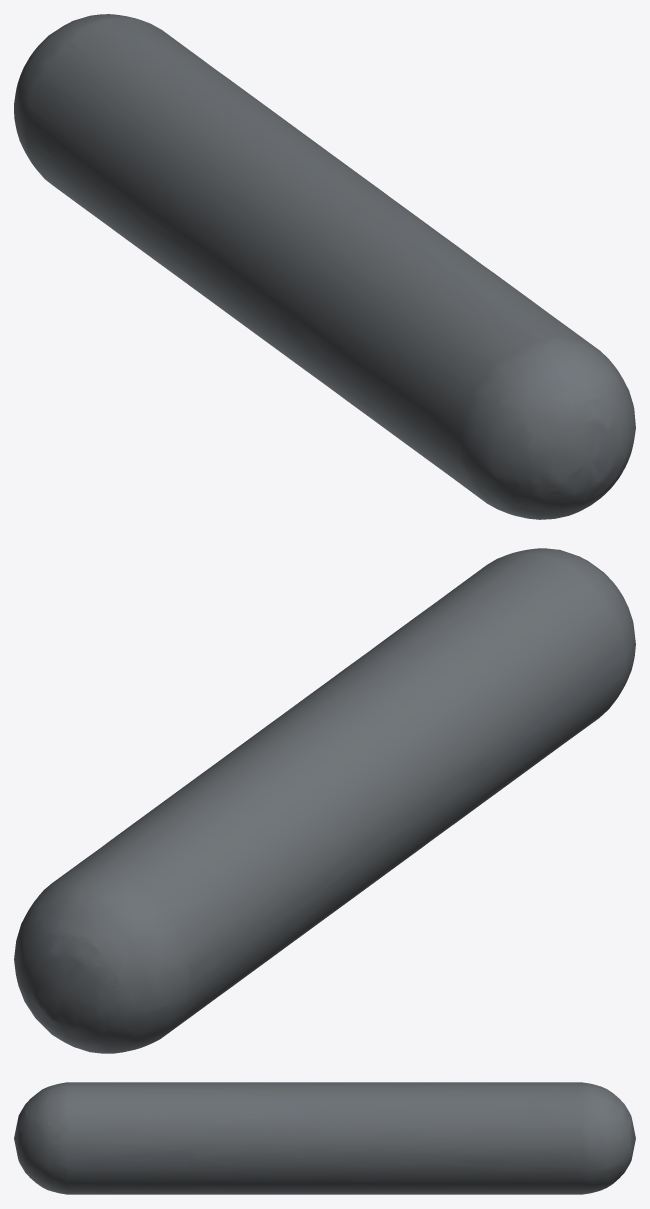
The model's file is anasq228.glb.
The picture shows the model from 3 angles, top to bottom: view 1: azimuth 30°, elevation 25°; view 2: azimuth 150°, elevation 25°; view 3: azimuth 270°, elevation 25°; orthographic projection. The views are drawn at different scales.
Visible parts, largest first — view 1: airframe; view 2: airframe; view 3: airframe.
Part boxes in pixels (x1=…): airframe: x1=14, y1=14, x2=635, y2=519; airframe: x1=14, y1=548, x2=635, y2=1053; airframe: x1=14, y1=1082, x2=635, y2=1194.
Bounding box in the file's own units: 0.3305 × 0.3303 × 1.83.
1 material, 1 textured.
